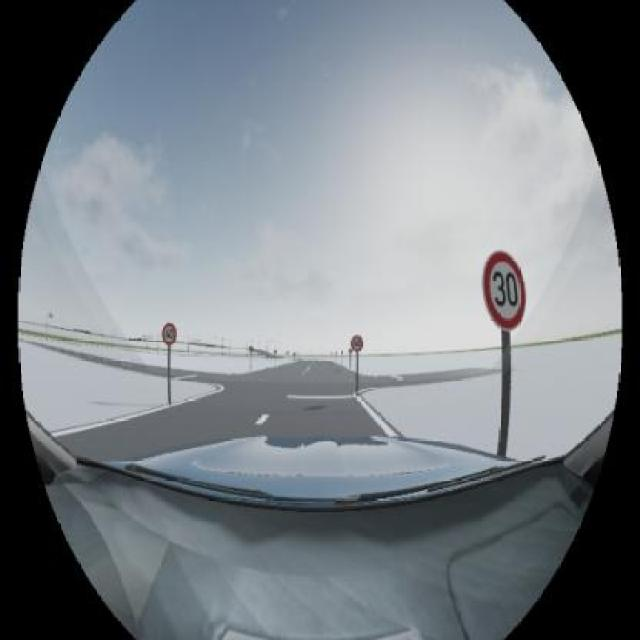forb_speed_over_30: (484, 251, 527, 329)
forb_speed_over_40: (162, 323, 178, 345)
